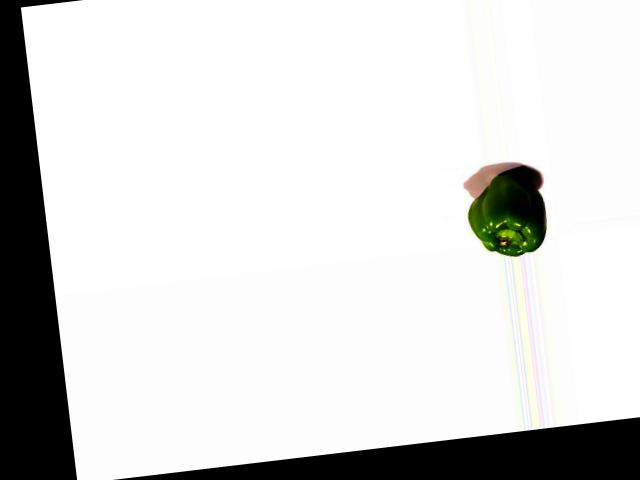bell_pepper: (460, 164, 551, 260)
